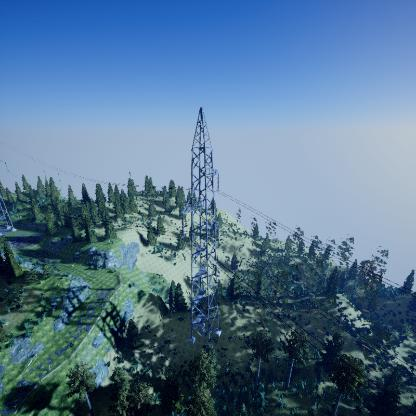tower: (181, 106, 224, 355)
